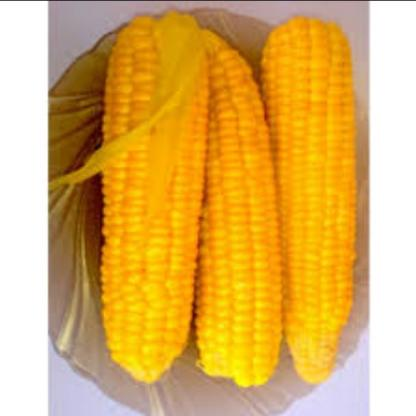corn: (92, 5, 215, 396), (267, 9, 353, 400), (193, 30, 282, 387)
